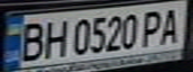0: (118, 10, 145, 49), (69, 15, 93, 56)
2: (106, 11, 127, 53)
5: (90, 12, 109, 54)
A: (157, 4, 187, 45)
B: (12, 19, 51, 62)
H: (36, 17, 69, 60)
P: (136, 7, 169, 47)
